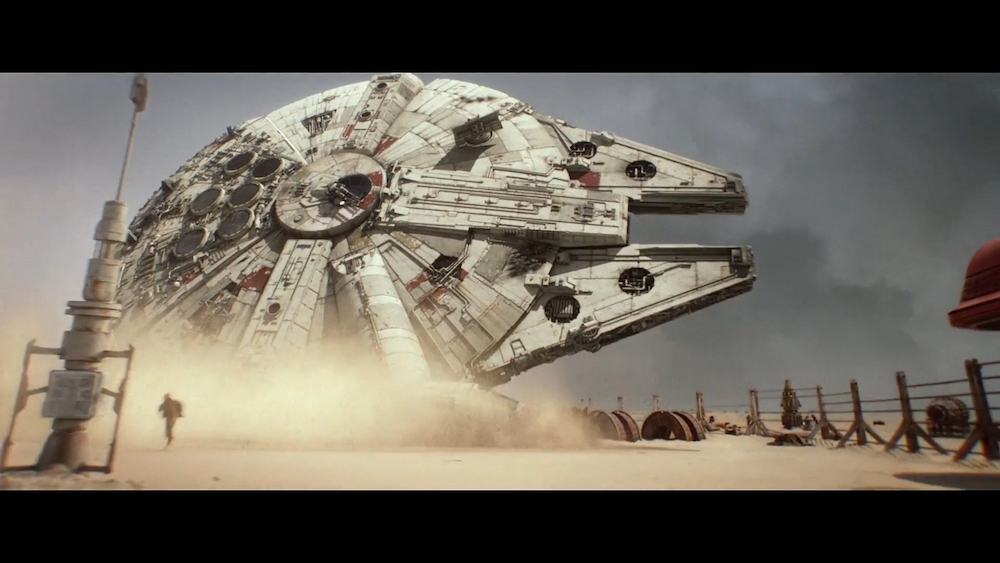Millennium Falcon: (102, 74, 756, 445)
